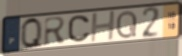2: (140, 4, 161, 41)
C: (67, 14, 92, 44)
H: (89, 9, 117, 44)
Q: (20, 16, 44, 50), (115, 9, 139, 40)
R: (43, 15, 68, 47)
